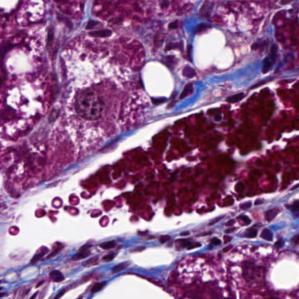inflammation: (230, 207, 279, 244), (172, 226, 225, 251)
